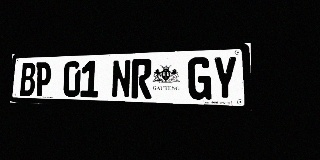0: (63, 61, 81, 97)
1: (80, 60, 99, 98)
B: (20, 62, 36, 96)
G: (188, 57, 211, 100)
N: (111, 59, 131, 98)
P: (35, 62, 51, 97)
R: (131, 59, 152, 99)
Y: (212, 56, 238, 101)
